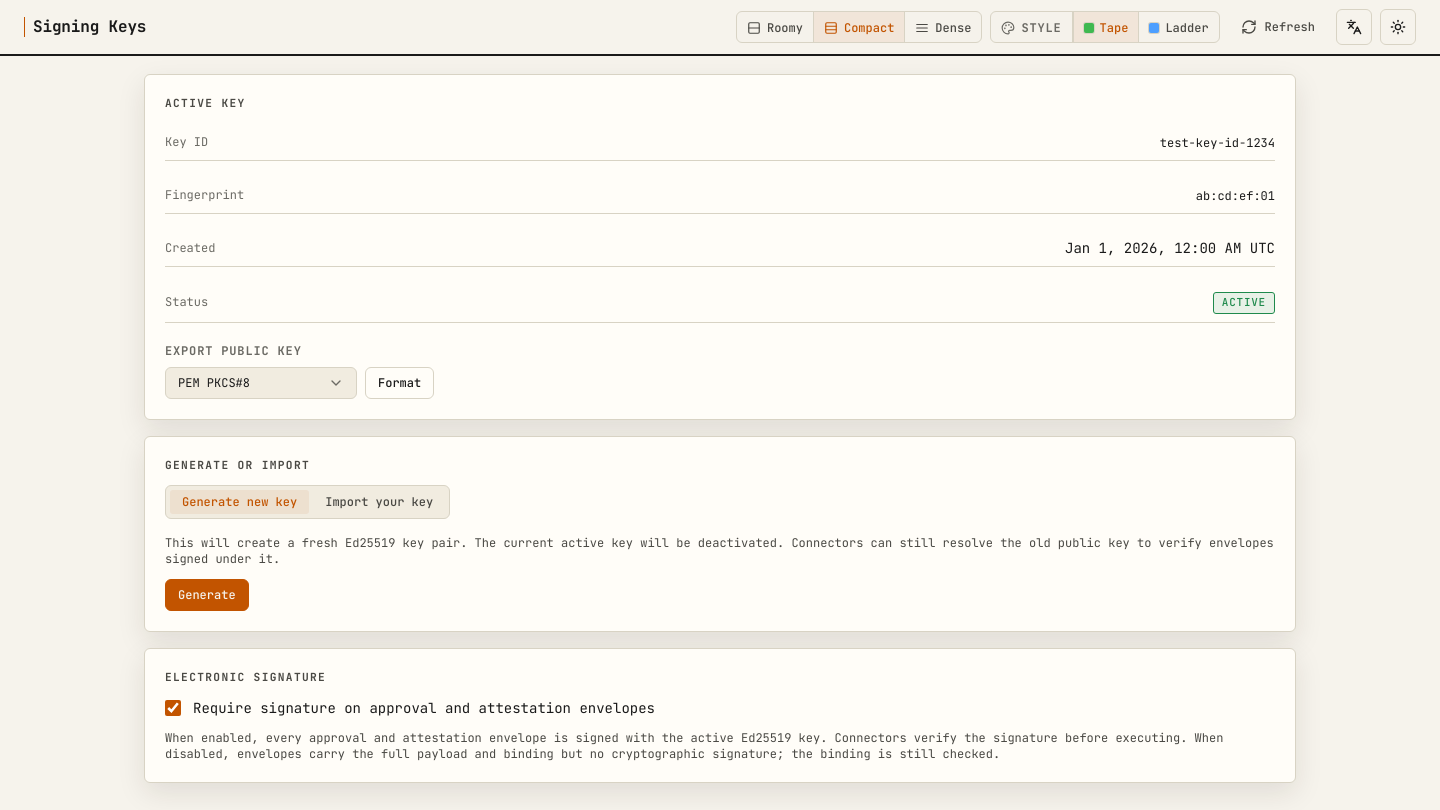
SigningKeys page - generate › opens AlertDialog on Generate button click
Click the button "Generate".
click(207, 595)  # box [165,579,249,611]
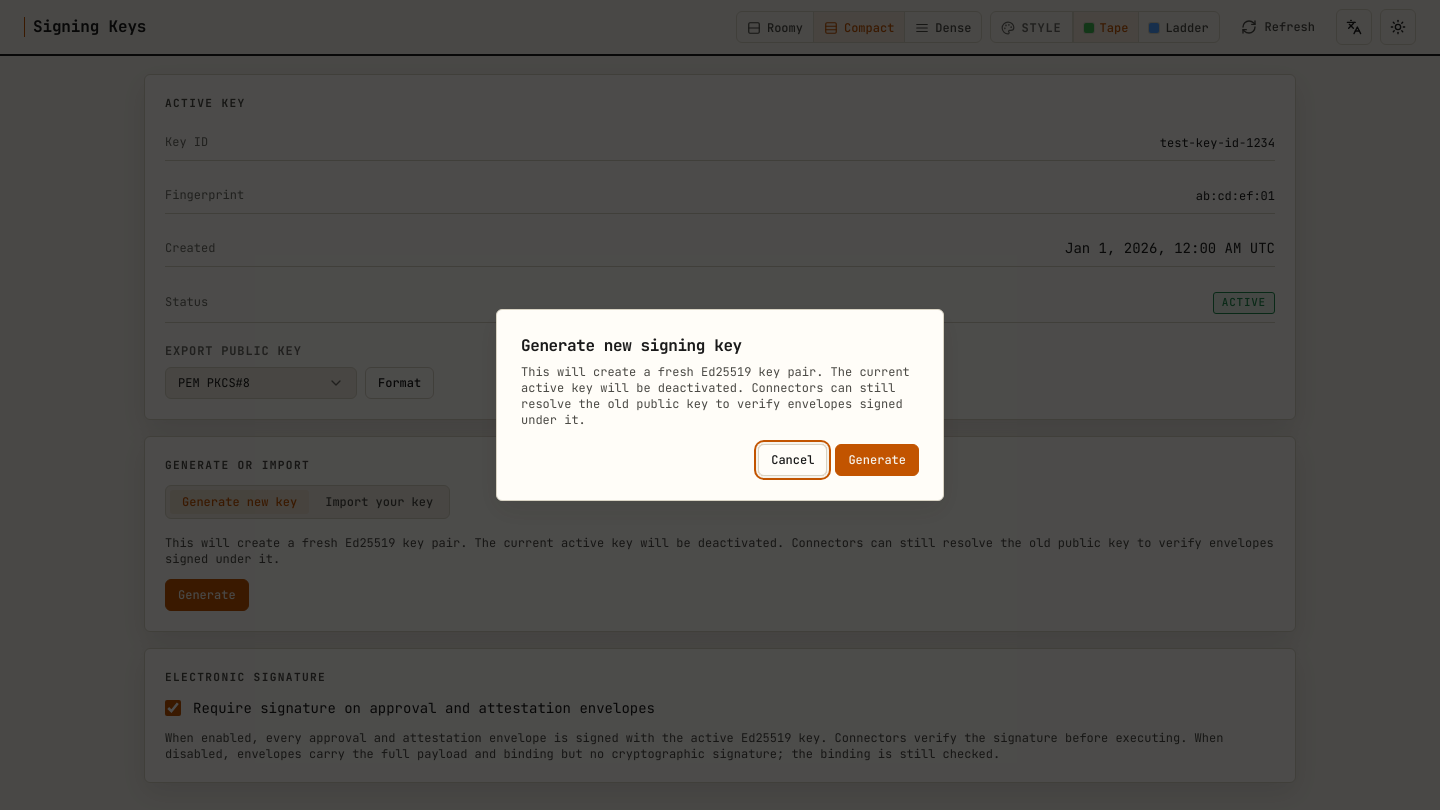
Expected: the dialog is shown, [496,309,944,501]
